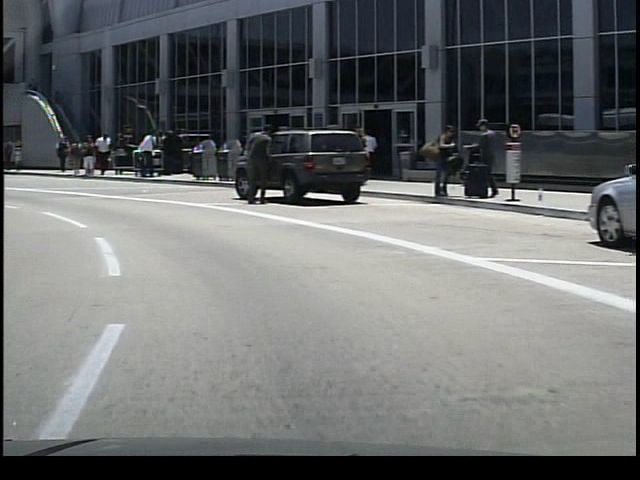person: (452, 114, 496, 198), (420, 118, 453, 202), (242, 115, 271, 208), (355, 124, 379, 186), (132, 125, 156, 180), (90, 129, 112, 179), (75, 132, 94, 181), (51, 134, 69, 176)
